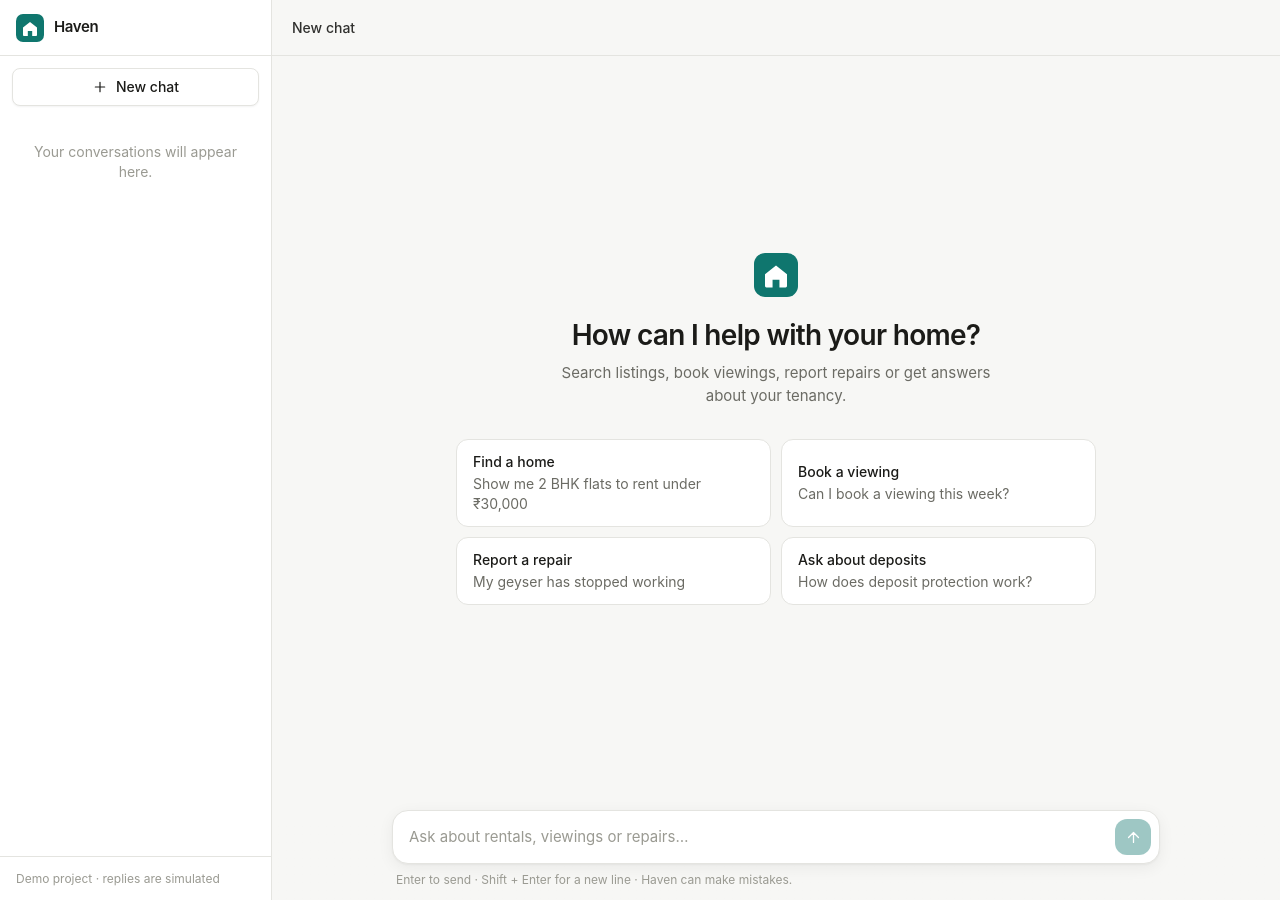
Test case: App › shows an error with a working retry button
Type "Hello" into the text box named "message haven".
click(758, 837); type("Hello")  # box [409, 819, 1107, 855]
Then press Enter
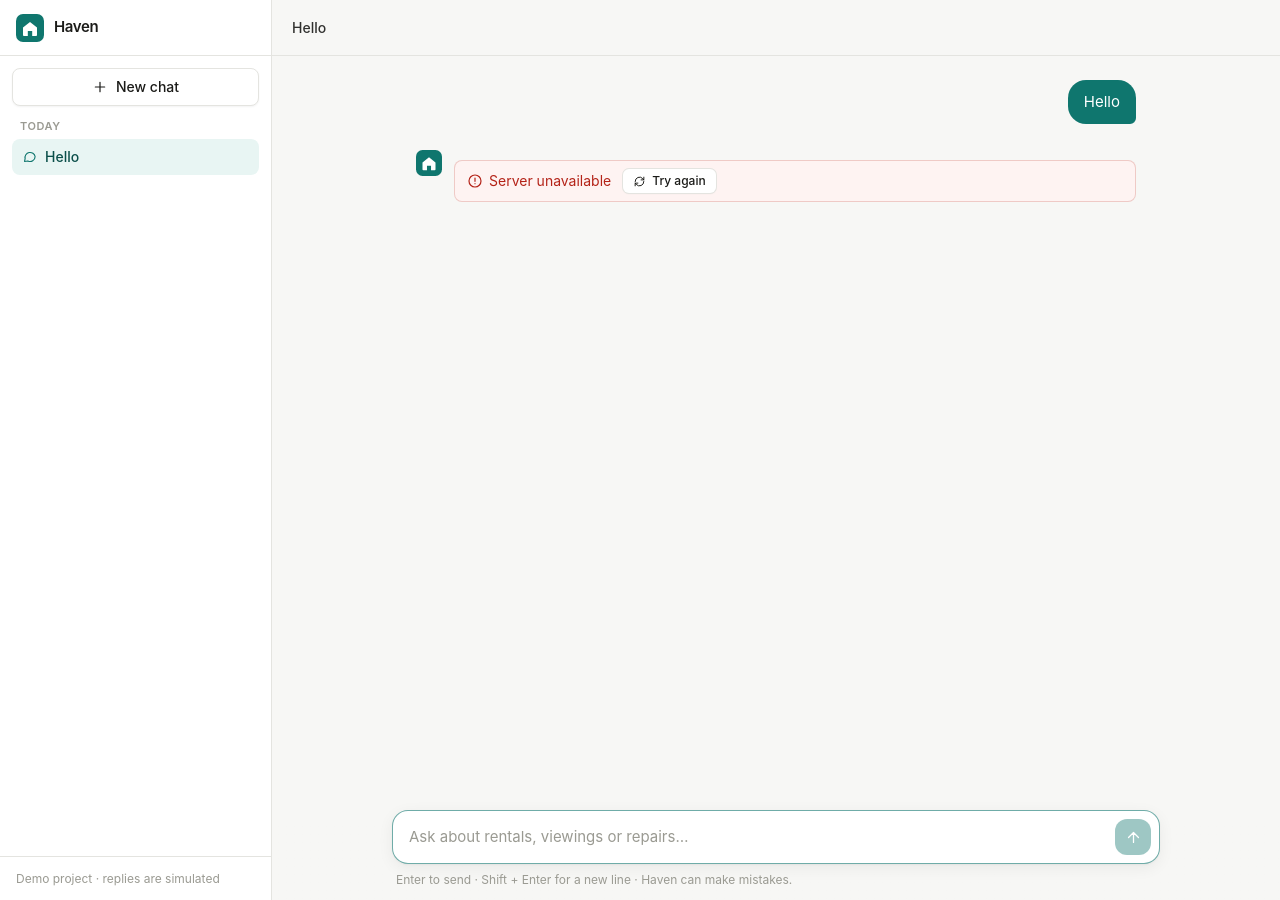
Expected: the message shows "Server unavailable", [489, 172, 611, 189]
Click the button "Try again".
click(669, 181)  # box [623, 169, 716, 193]
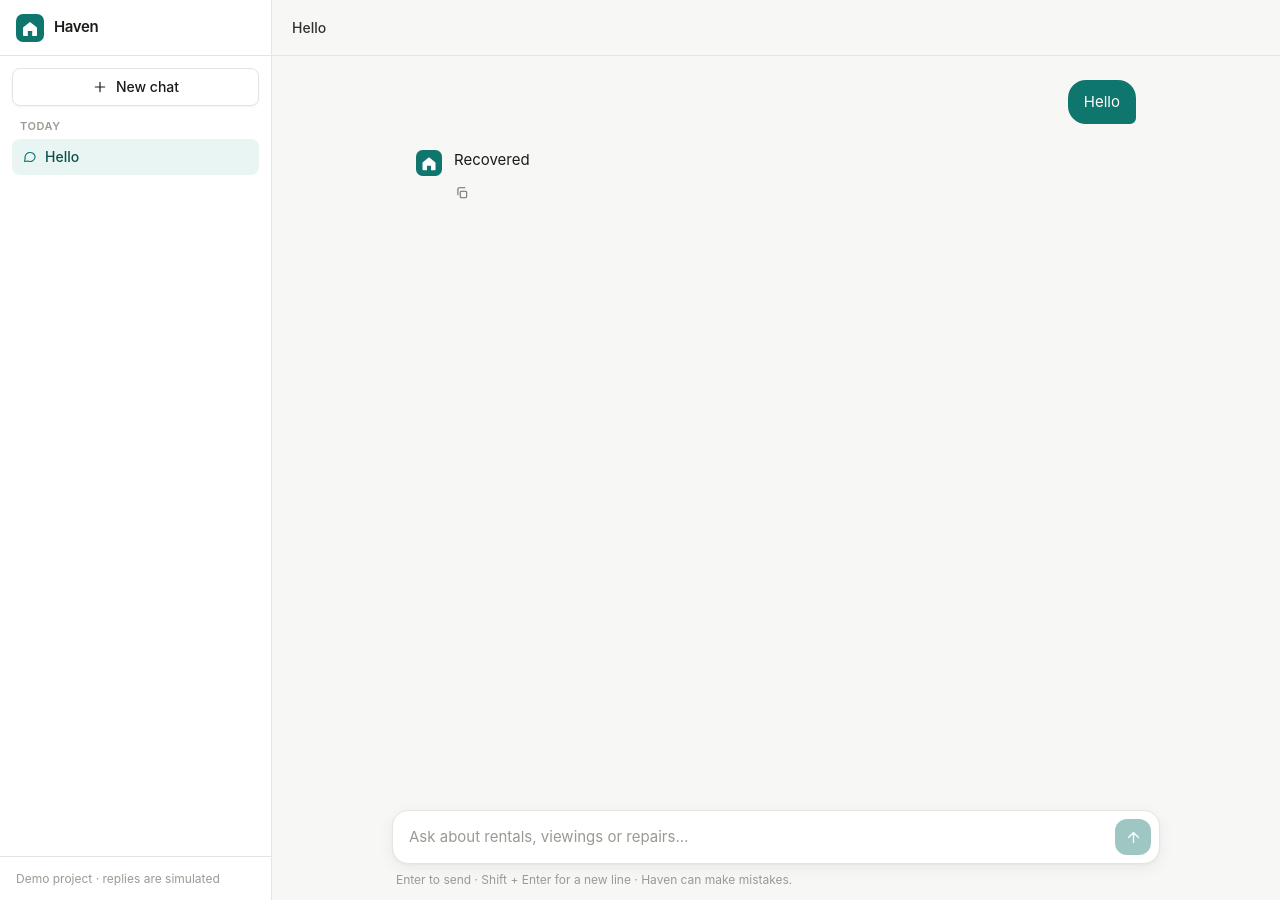
Expected: the text "Recovered" is shown, [454, 150, 530, 169]
Expected: the message "Server unavailable Try again" is gone
